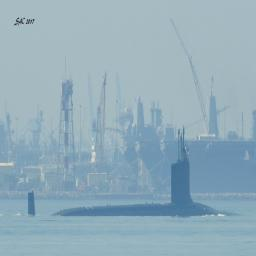submarine: (28, 163, 222, 218)
